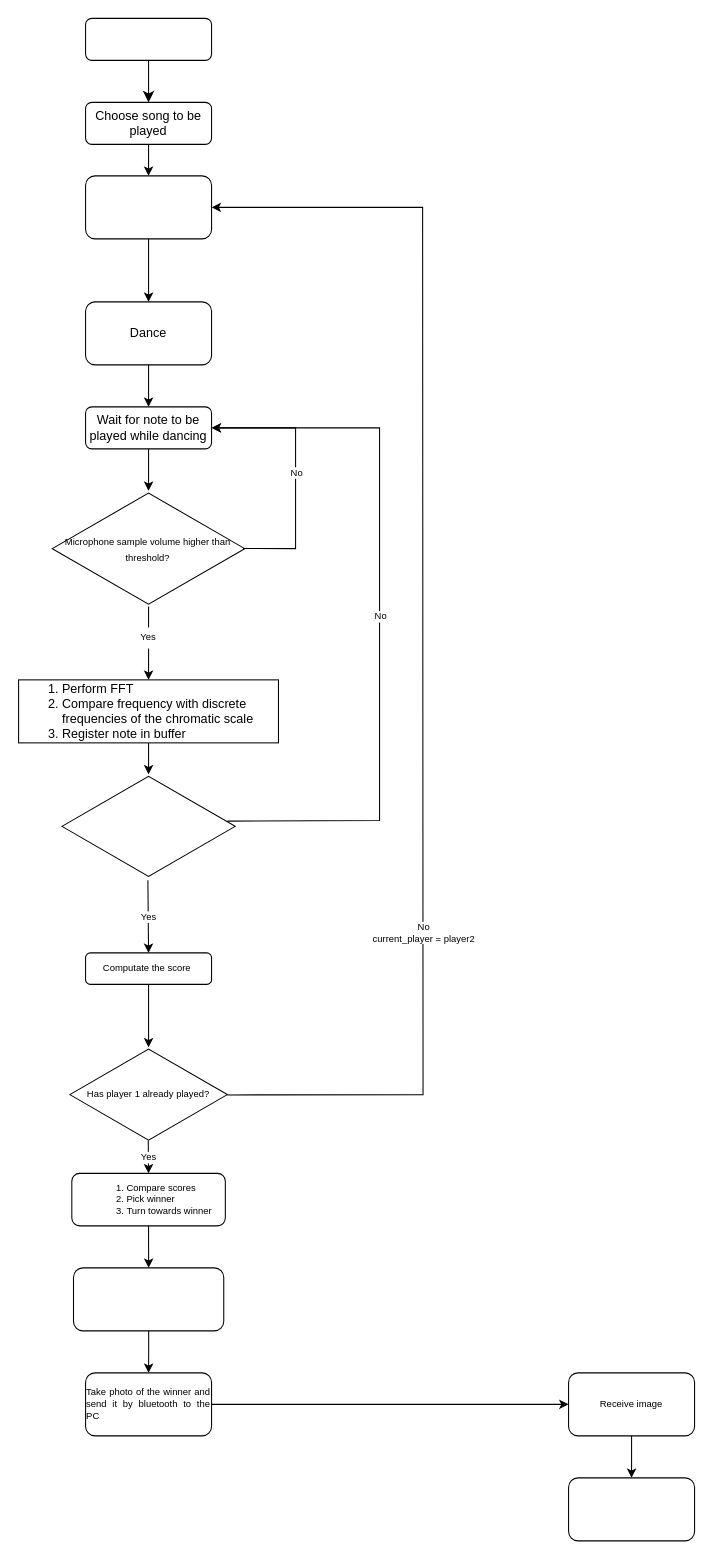
Image size: 713x1559. Some labels were removed from this diagram. Each missing label, with the centre of its shape:
"Advance and evade obstacles on the path Play melody on the way" belongs at point 148,1299.
"Is the registered note buffers bigger than RECORDING_SIZE?" belongs at point 148,825.
"Send it by mail to the Professors" belongs at point 631,1509.
"Start" belongs at point 148,38.
"Wait for first note to be played" belongs at point 148,207.
